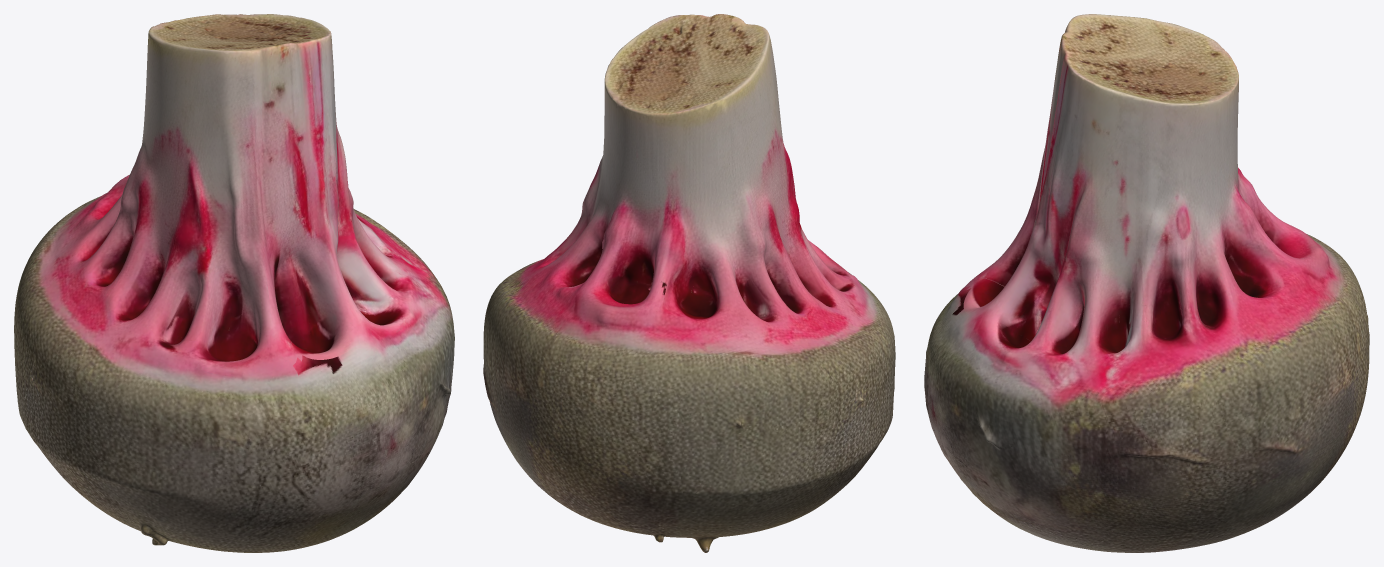
File: vet_v2_path_laminitis-hoof.glb
3 renders of one model, left to right at view 1: azimuth 30°, elevation 25°; view 2: azimuth 150°, elevation 25°; view 3: azimuth 270°, elevation 25°, orthographic. The views are drawn at different scales.
Parts seen in each view (by area): view 1: model; view 2: model; view 3: model.
Part boxes in pixels (x1,y1,x2,y2): model: (14, 14, 454, 552); model: (483, 14, 895, 552); model: (924, 14, 1369, 552).
Bounding box in the file's own units: 1.57 × 1.9 × 1.61.
1 material, 1 textured.
